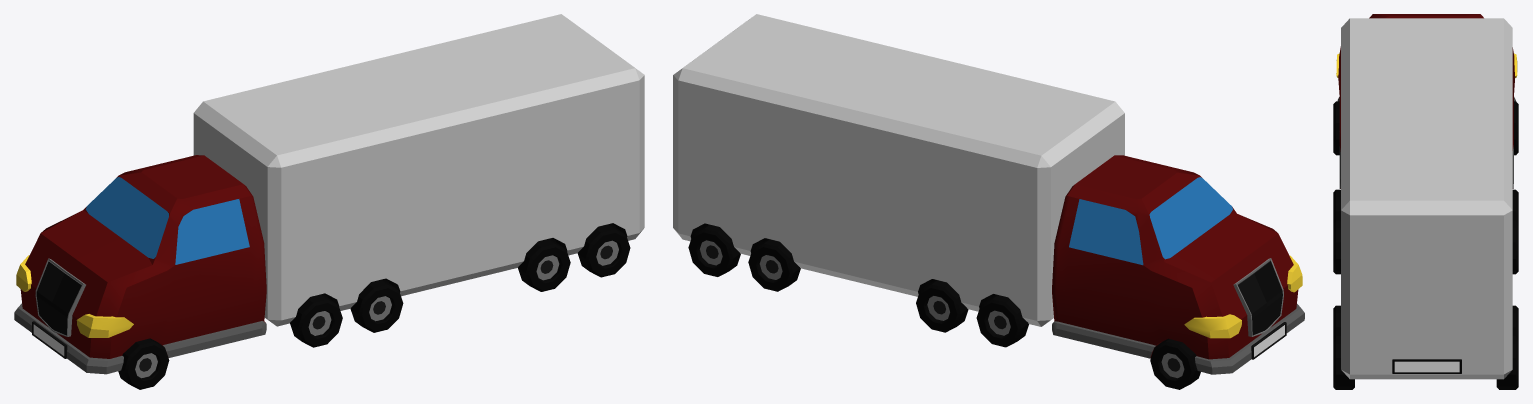
File: Camioneta.FBX
3 renders of one model, left to right at view 1: azimuth 30°, elevation 25°; view 2: azimuth 150°, elevation 25°; view 3: azimuth 270°, elevation 25°, orthographic. The views are drawn at different scales.
Parts seen in each view (by area): view 1: Box009, Vehiculo014, RadiadorCoche010, Cylinder027, Cylinder030, Cylinder029, Cylinder028, Cylinder026, Foco014, MatriculaDelantera010; view 2: Box009, Vehiculo014, RadiadorCoche010, Cylinder027, Cylinder029, Cylinder028, Cylinder030, Cylinder026, Foco014, MatriculaDelantera010; view 3: Box009, Cylinder029, Vehiculo014, MatriculaTrasera010, Cylinder028, Cylinder026, Cylinder027, Cylinder030.
Boxes of the visible parts, x1=… form: Box009: x1=193, y1=14, x2=644, y2=326; Vehiculo014: x1=14, y1=155, x2=266, y2=374; RadiadorCoche010: x1=35, y1=258, x2=85, y2=336; Cylinder027: x1=290, y1=294, x2=342, y2=347; Cylinder030: x1=518, y1=239, x2=570, y2=291; Cylinder029: x1=577, y1=224, x2=630, y2=277; Cylinder028: x1=350, y1=279, x2=403, y2=332; Cylinder026: x1=118, y1=338, x2=169, y2=389; Foco014: x1=16, y1=255, x2=133, y2=337; MatriculaDelantera010: x1=32, y1=321, x2=67, y2=358; Box009: x1=673, y1=14, x2=1124, y2=326; Vehiculo014: x1=1052, y1=155, x2=1304, y2=374; RadiadorCoche010: x1=1233, y1=258, x2=1283, y2=336; Cylinder027: x1=976, y1=295, x2=1028, y2=347; Cylinder029: x1=688, y1=224, x2=740, y2=276; Cylinder028: x1=916, y1=280, x2=968, y2=332; Cylinder030: x1=748, y1=239, x2=800, y2=291; Cylinder026: x1=1150, y1=338, x2=1200, y2=389; Foco014: x1=1184, y1=255, x2=1302, y2=338; MatriculaDelantera010: x1=1251, y1=322, x2=1286, y2=359; Box009: x1=1341, y1=18, x2=1512, y2=379; Cylinder029: x1=1333, y1=336, x2=1518, y2=389; Vehiculo014: x1=1337, y1=14, x2=1515, y2=188; MatriculaTrasera010: x1=1392, y1=359, x2=1461, y2=373; Cylinder028: x1=1333, y1=220, x2=1518, y2=274; Cylinder026: x1=1333, y1=101, x2=1518, y2=155; Cylinder027: x1=1333, y1=189, x2=1518, y2=222; Cylinder030: x1=1333, y1=305, x2=1518, y2=338.
Size of the model in its own units: 730 by 242 by 200.
